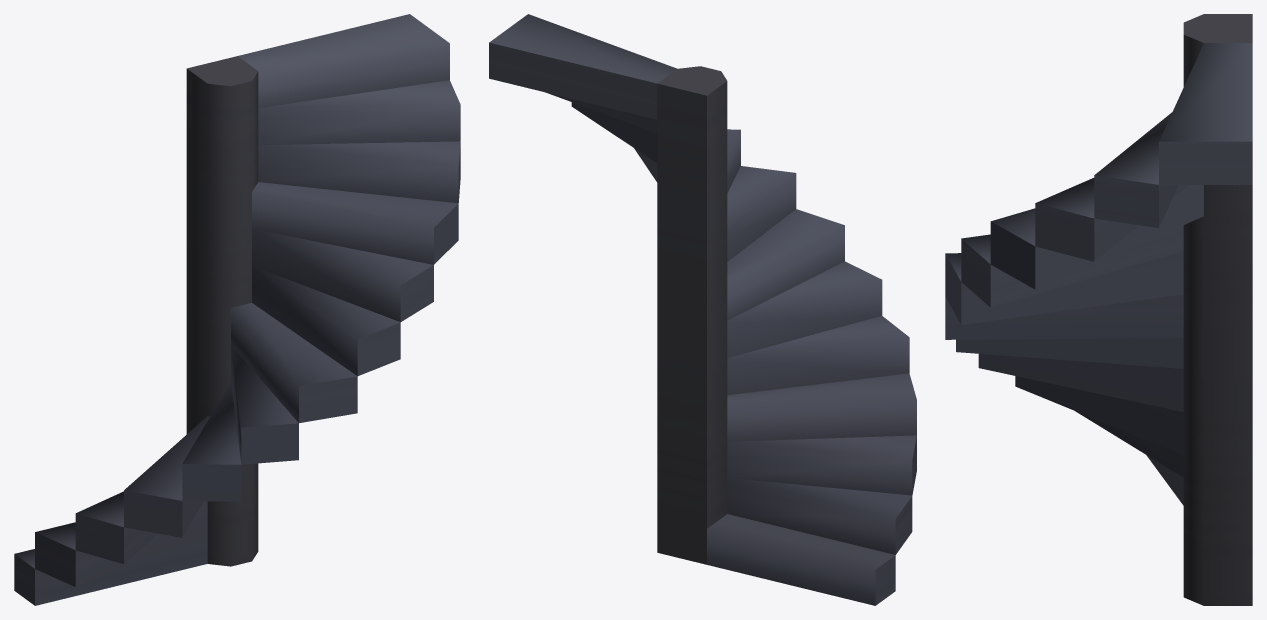
File: stairs-stone-round.glb
The picture shows the model from 3 angles, left to right: view 1: azimuth 30°, elevation 25°; view 2: azimuth 150°, elevation 25°; view 3: azimuth 270°, elevation 25°; orthographic projection. The views are drawn at different scales.
Visible parts, largest first — view 1: stairs-stone-round; view 2: stairs-stone-round; view 3: stairs-stone-round.
Boxes of the visible parts, x1,y1,x2,y2 form: stairs-stone-round: (14, 14, 460, 605); stairs-stone-round: (489, 14, 916, 605); stairs-stone-round: (945, 14, 1252, 605).
Bounding box in the file's own units: 0.8618 × 1 × 0.4949.
Materials: 1 (1 with a texture image).
